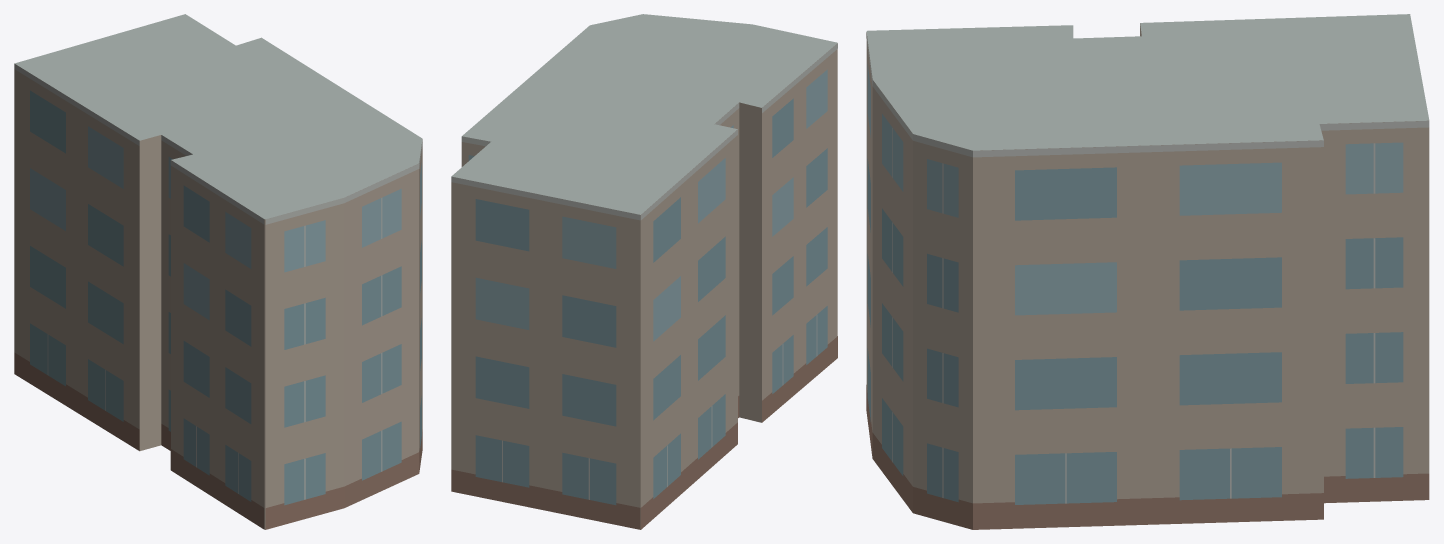
Rendered from survey-upis-32616237.glb.
3 views of the same model, side by side, from view 1: azimuth 30°, elevation 25°; view 2: azimuth 150°, elevation 25°; view 3: azimuth 270°, elevation 25° (orthographic). The views are drawn at different scales.
Visible parts, largest first — view 1: survey-upis-32616237.tmp; view 2: survey-upis-32616237.tmp; view 3: survey-upis-32616237.tmp.
Boxes of the visible parts, x1=… form: survey-upis-32616237.tmp: x1=14, y1=14, x2=422, y2=529; survey-upis-32616237.tmp: x1=451, y1=14, x2=837, y2=529; survey-upis-32616237.tmp: x1=866, y1=14, x2=1429, y2=529.
Size of the model in its own units: 10.6 by 13.7 by 18.44.
